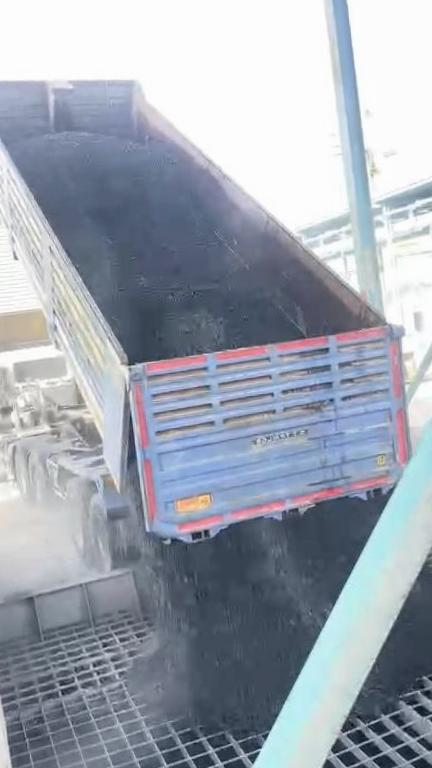gravel: (13, 133, 302, 362), (129, 502, 381, 728), (356, 567, 432, 714)
